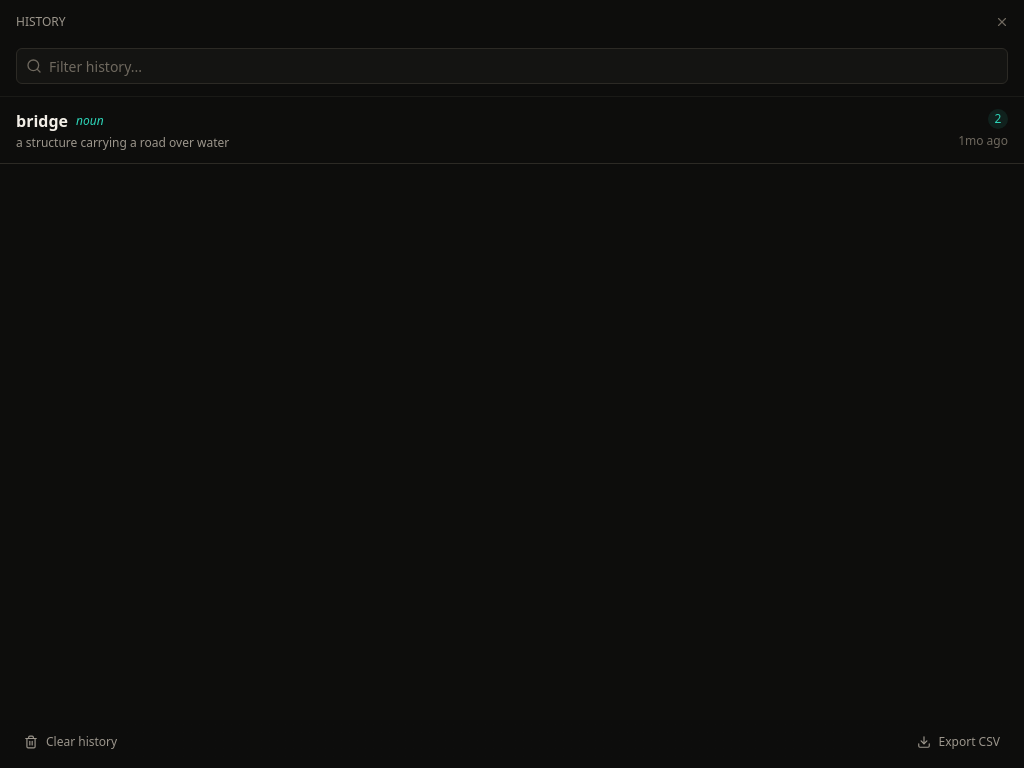
it: HistoryWindow › asks for confirmation before clearing history
Expected: the button "bridge noun a structure carrying a road over water 2 1mo ago" is shown, 0,97 -> 1023,164
Click the button "Clear history" at (71, 742), box 12,726 -> 129,758
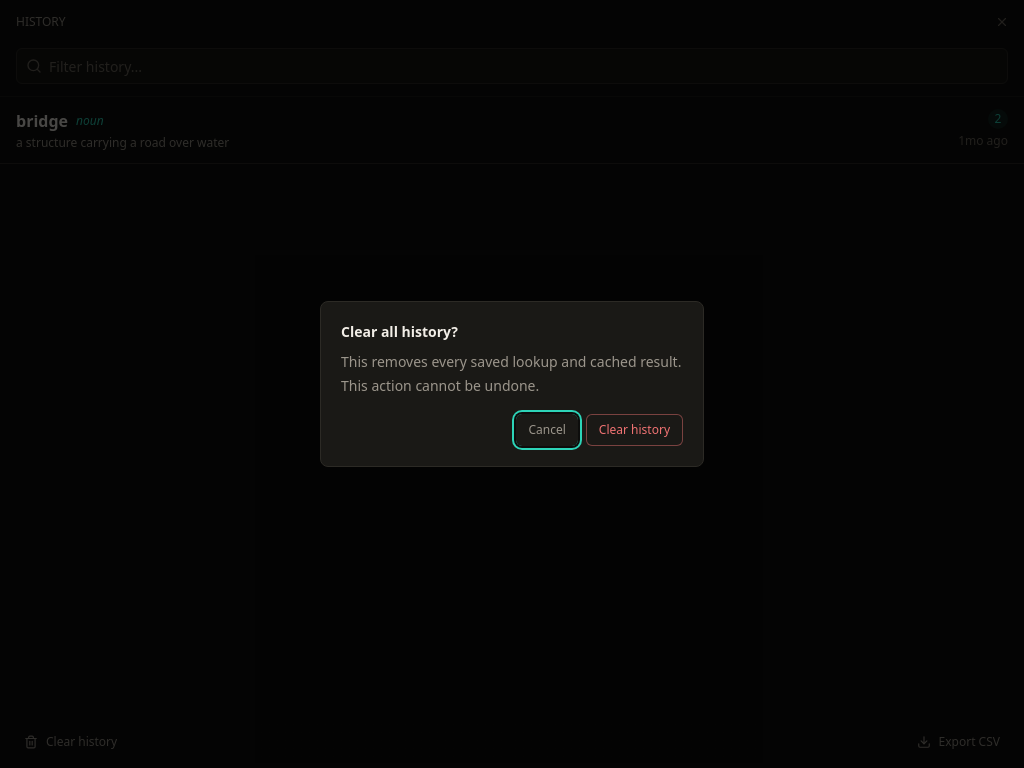
Result: the heading "Clear all history?" is shown at 341,322 -> 458,341
Click the button "Clear history" at (634, 430), box 586,414 -> 683,446
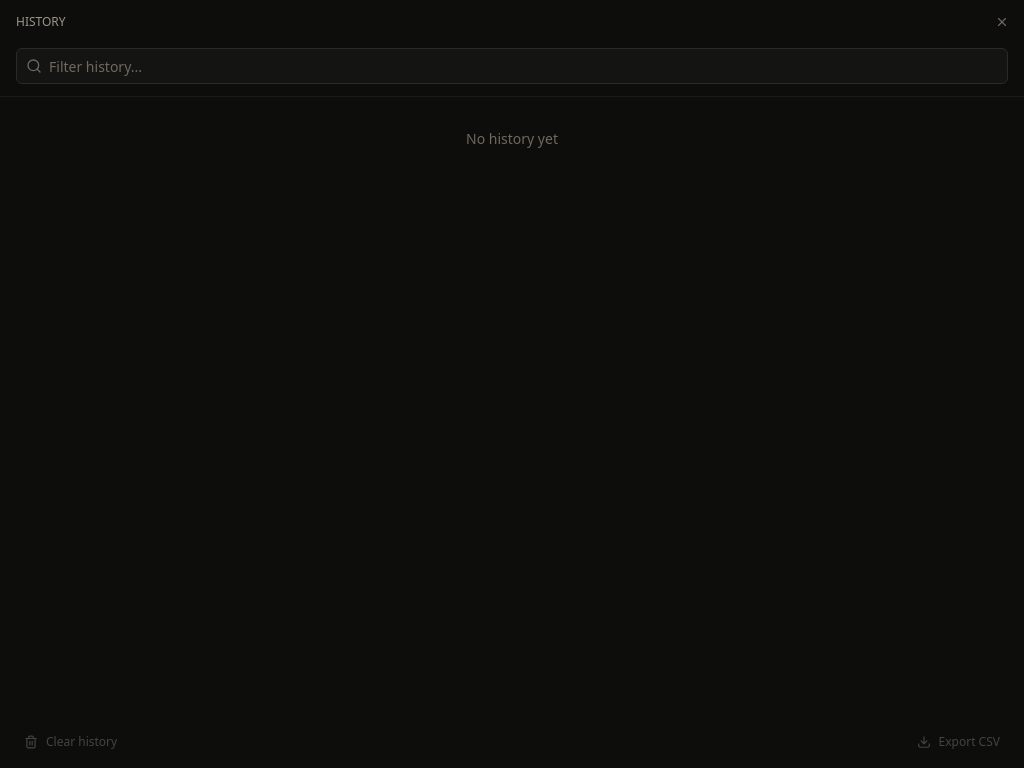
Result: the text "No history yet" is shown at 466,129 -> 558,148
